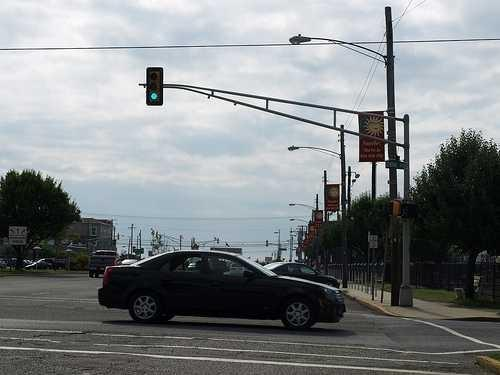2: (146, 68, 162, 104)
red traffic light: (147, 92, 160, 104)
